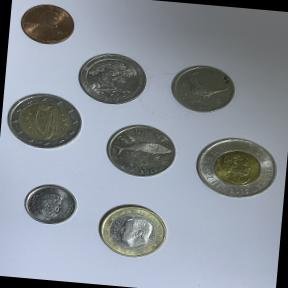coin: (187, 128, 286, 208), (0, 86, 86, 154), (89, 198, 174, 263), (101, 118, 183, 183), (74, 48, 154, 110), (12, 0, 80, 50), (19, 179, 82, 229)
